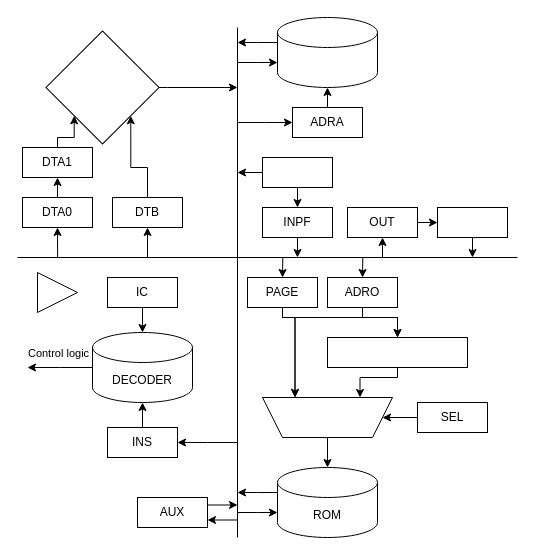
Image size: 536x556. Some labels were removed from this diagram. The shapes that lost their labels are listed below. From the top down, each one's box as (x1, y1, x2, y2) in pixels, then its label:
(276, 16, 378, 88): RAM
(45, 30, 159, 144): ALU
(262, 156, 332, 188): INP
(436, 206, 508, 238): OUTF
(36, 272, 78, 312): CLK
(326, 336, 468, 368): PC
(262, 396, 392, 438): 2x16 MUX
